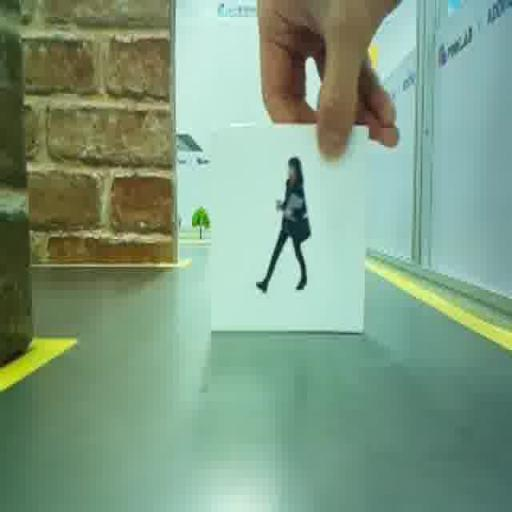human: (256, 157, 310, 292)
